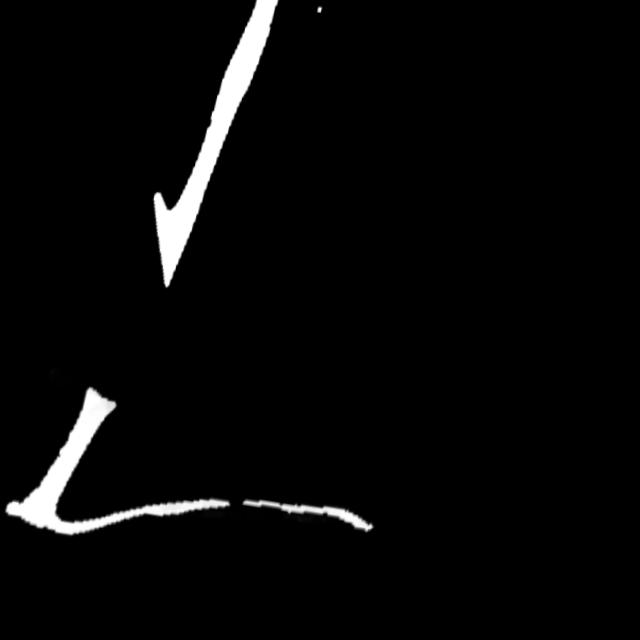sup: (226, 490, 259, 521)
